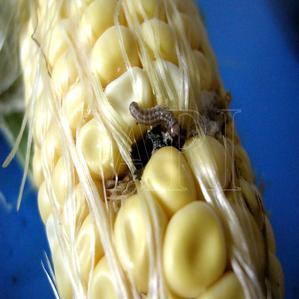Cotton bollworm: (121, 86, 194, 151)
